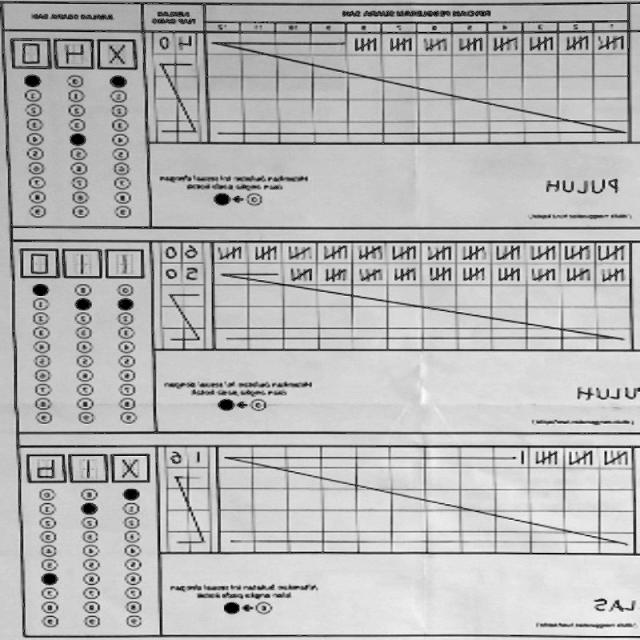Suara: (5, 34, 142, 74), (20, 446, 158, 484), (14, 242, 151, 280)
